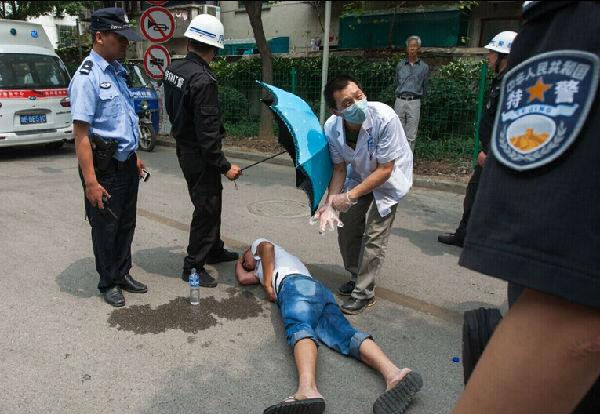bending: (314, 73, 416, 314)
down: (220, 233, 431, 413)
up: (60, 5, 152, 307), (156, 8, 252, 289), (391, 33, 431, 146)
